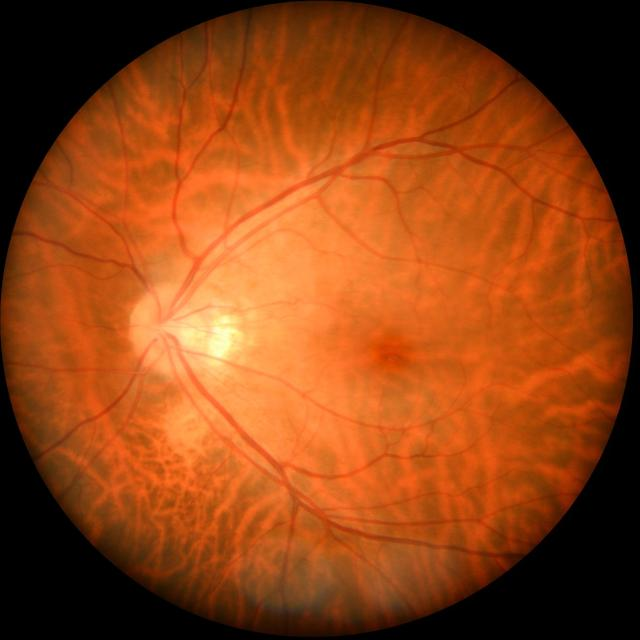OC: (152, 309, 188, 347)
OD: (128, 282, 208, 373)
